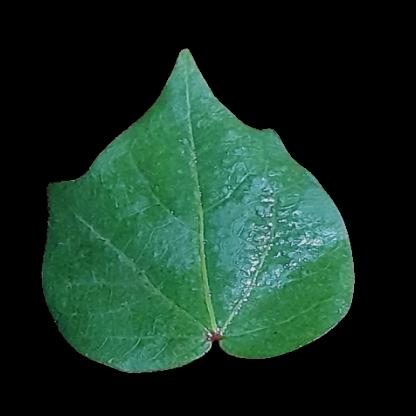healthy: (65, 191, 221, 340), (233, 199, 322, 341), (152, 115, 238, 189)
